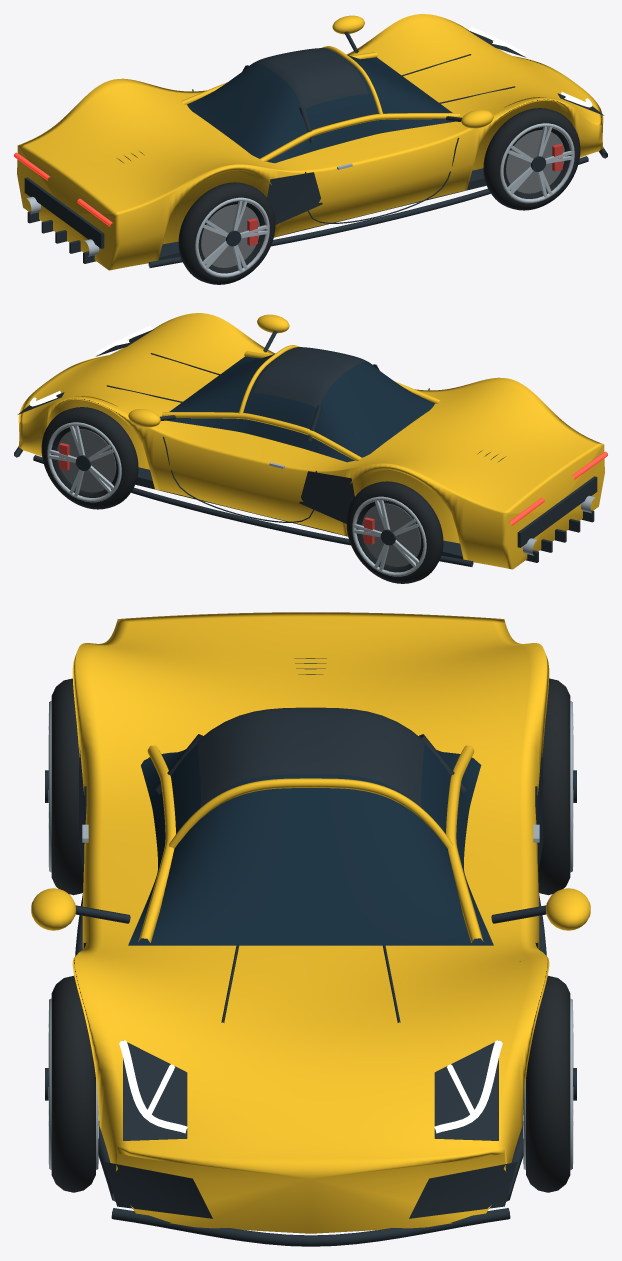
The model's file is car01.glb.
3 views of the same model, one above another, from view 1: azimuth 30°, elevation 25°; view 2: azimuth 150°, elevation 25°; view 3: azimuth 270°, elevation 25° (orthographic). The views are drawn at different scales.
Visible parts, largest first — view 1: continuous-sculpted-body, CAR01, curved-windows, roof-panel; view 2: continuous-sculpted-body, CAR01, curved-windows, roof-panel; view 3: continuous-sculpted-body, CAR01, curved-windows, roof-panel.
Boxes of the visible parts, left/top/right/bottom form: continuous-sculpted-body: left=17, top=14, right=603, bottom=270; CAR01: left=14, top=15, right=607, bottom=284; curved-windows: left=187, top=51, right=454, bottom=163; roof-panel: left=247, top=48, right=368, bottom=108; continuous-sculpted-body: left=18, top=313, right=604, bottom=569; CAR01: left=14, top=314, right=607, bottom=583; curved-windows: left=167, top=350, right=434, bottom=462; roof-panel: left=253, top=347, right=374, bottom=407; continuous-sculpted-body: left=72, top=612, right=549, bottom=1233; CAR01: left=31, top=658, right=590, bottom=1246; curved-windows: left=128, top=744, right=493, bottom=945; roof-panel: left=197, top=707, right=424, bottom=806.
Size of the model in its own units: 4.79 by 1.26 by 2.22.
